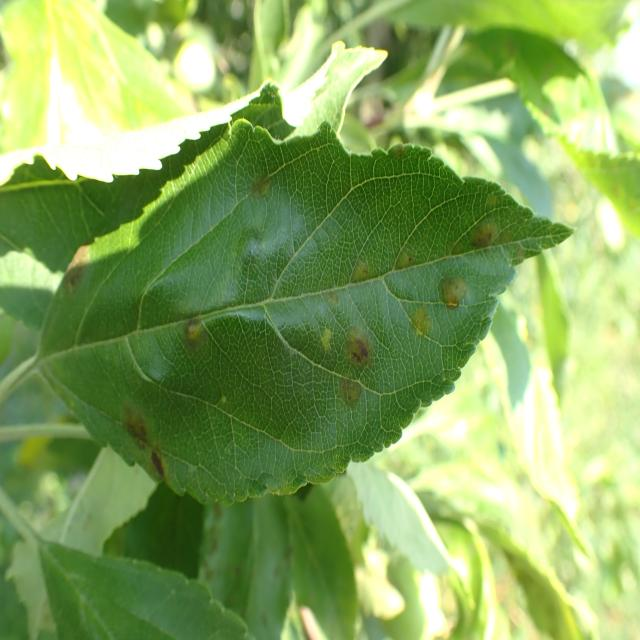scab: (47, 154, 575, 483)
